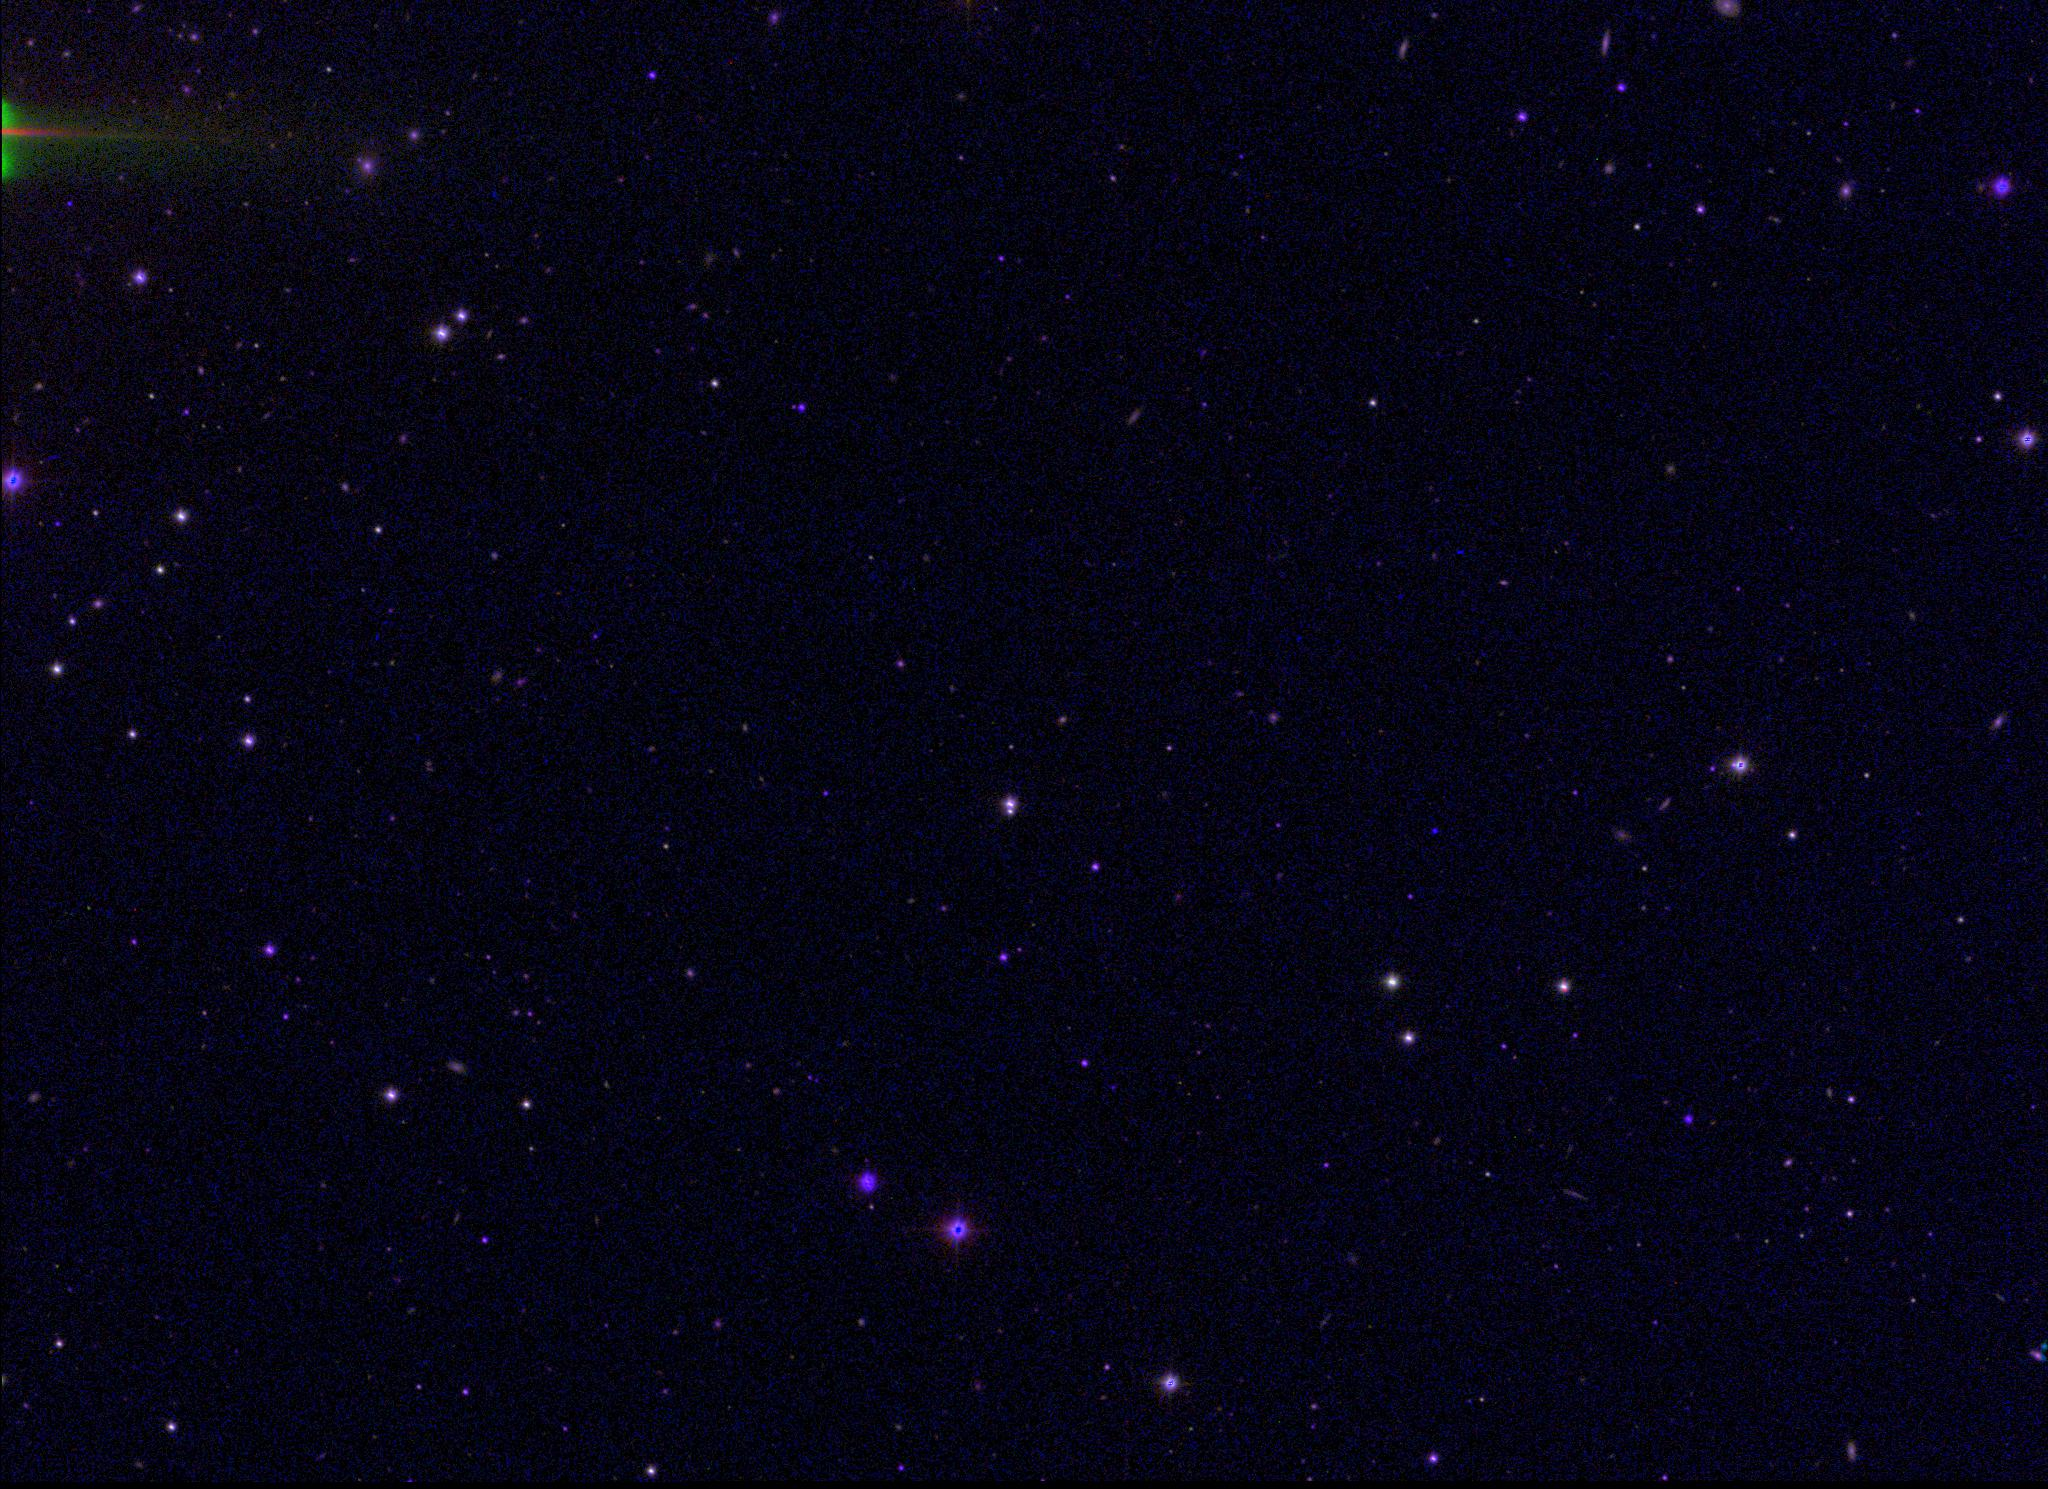L: (1426, 824, 1441, 838)
